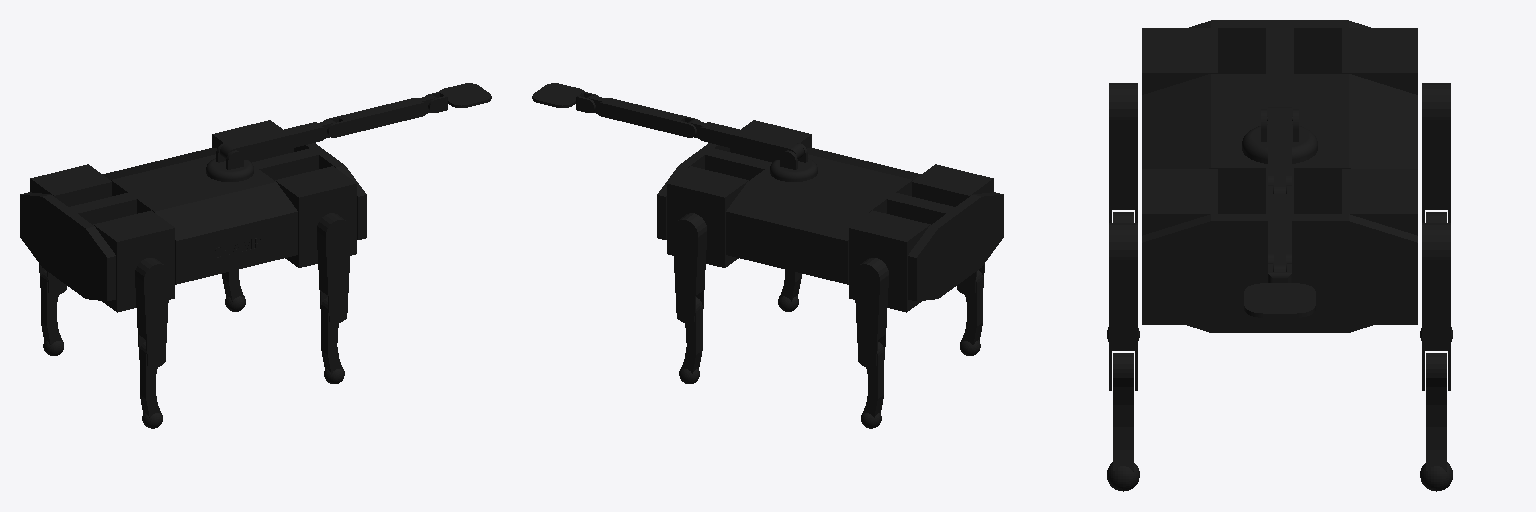
--- Render facts (derived) ---
The picture shows the robot from 3 angles, left to right: view 1: azimuth 30°, elevation 25°; view 2: azimuth 150°, elevation 25°; view 3: azimuth 270°, elevation 25°; orthographic projection.
Model champ with 30 links and 29 joints (17 revolute, 12 fixed), rooted at base_link, posed every joint at zero.
Visible links, largest first — view 1: base_link, rf_hip_link, rh_hip_link, rh_upper_leg_link, rf_upper_leg_link, lh_hip_link, upper_arm, lower_arm, rf_lower_leg_link, lh_lower_leg_link, rh_lower_leg_link, base (+3 smaller); view 2: base_link, lf_hip_link, lh_hip_link, lh_upper_leg_link, lf_upper_leg_link, rh_hip_link, upper_arm, lower_arm, lf_lower_leg_link, rh_lower_leg_link, lh_lower_leg_link, base (+3 smaller); view 3: base_link, lf_hip_link, rf_hip_link, lh_hip_link, rh_hip_link, lf_upper_leg_link, rf_upper_leg_link, lh_upper_leg_link, rh_upper_leg_link, lf_lower_leg_link, rf_lower_leg_link, wrist2 (+3 smaller).
Link boxes in pixels (bbox=[...]): base_link: bbox=[20, 143, 366, 300]; rf_hip_link: bbox=[275, 166, 356, 267]; rh_hip_link: bbox=[93, 210, 174, 312]; rh_upper_leg_link: bbox=[135, 258, 169, 367]; rf_upper_leg_link: bbox=[317, 213, 350, 323]; lh_hip_link: bbox=[30, 164, 111, 206]; upper_arm: bbox=[323, 95, 436, 137]; lower_arm: bbox=[220, 120, 335, 159]; rf_lower_leg_link: bbox=[321, 297, 344, 383]; lh_lower_leg_link: bbox=[41, 270, 63, 355]; rh_lower_leg_link: bbox=[140, 342, 162, 428]; base: bbox=[206, 143, 253, 181]; base_link: bbox=[657, 143, 1003, 300]; lf_hip_link: bbox=[667, 166, 748, 267]; lh_hip_link: bbox=[849, 210, 930, 312]; lh_upper_leg_link: bbox=[854, 258, 888, 367]; lf_upper_leg_link: bbox=[673, 213, 706, 323]; rh_hip_link: bbox=[912, 164, 993, 206]; upper_arm: bbox=[587, 95, 700, 137]; lower_arm: bbox=[688, 120, 803, 159]; lf_lower_leg_link: bbox=[679, 297, 702, 383]; rh_lower_leg_link: bbox=[960, 270, 982, 355]; lh_lower_leg_link: bbox=[861, 342, 883, 428]; base: bbox=[770, 143, 817, 181]; base_link: bbox=[1142, 20, 1417, 332]; lf_hip_link: bbox=[1342, 169, 1417, 324]; rf_hip_link: bbox=[1142, 169, 1217, 324]; lh_hip_link: bbox=[1342, 28, 1417, 94]; rh_hip_link: bbox=[1142, 28, 1217, 94]; lf_upper_leg_link: bbox=[1422, 223, 1450, 390]; rf_upper_leg_link: bbox=[1109, 223, 1137, 390]; lh_upper_leg_link: bbox=[1422, 83, 1450, 222]; rh_upper_leg_link: bbox=[1109, 83, 1137, 222]; lf_lower_leg_link: bbox=[1420, 353, 1452, 491]; rf_lower_leg_link: bbox=[1107, 353, 1139, 491]; wrist2: bbox=[1244, 283, 1315, 317].
Bounding box of the posed robot: 0.8105 × 0.365 × 0.3945 m (x, y, z).
Meshes: 9 distinct files referenced, 18 mesh visuals loaded (9 binary STL).

robot.urdf — champ:
<?xml version="1.0" encoding="utf-8"?>
<!-- =================================================================================== -->
<!-- |    This document was autogenerated by xacro from champ.urdf.xacro               | -->
<!-- |    EDITING THIS FILE BY HAND IS NOT RECOMMENDED                                 | -->
<!-- =================================================================================== -->
<robot name="champ">
  <material name="black">
    <color rgba="0.15 0.15 0.15 1.0"/>
  </material>

  <link name="upper_arm_debug_link"/>
  <joint name="upper_arm_debug_joint" type="fixed">
    <parent link="base"/>
    <child link="upper_arm_debug_link"/>
    <origin rpy="0 0 0" xyz="0 0 0.035"/>
  </joint>

  <link name="base_link">
    <collision>
      <origin rpy="0 0 0" xyz="0 0 0"/>
      <geometry>
        <mesh filename="package://champ_description/meshes/base.stl" scale="0.001 0.001 0.001"/>
      </geometry>
    </collision>
    <visual>
      <origin rpy="0 0 0" xyz="0 0 0"/>
      <geometry>
        <mesh filename="package://champ_description/meshes/base.stl" scale="0.001 0.001 0.001"/>
      </geometry>
      <material name="black"/>
    </visual>
  </link>
  <link name="base_inertia">
    <inertial>
      <origin xyz="0 0 0"/>
      <mass value="2.0"/>
      <inertia ixx="0.0168333333333" ixy="0.0" ixz="0.0" iyy="0.0444833333333" iyz="0.0" izz="0.0556833333333"/>
    </inertial>
  </link>
  <joint name="base_link_to_base_inertia" type="fixed">
    <parent link="base_link"/>
    <child link="base_inertia"/>
    <origin rpy="0 0 0" xyz="0 0 0"/>
  </joint>
  <gazebo reference="base_link">
    <material>Gazebo/FlatBlack</material>
  </gazebo>
  <!-- <xacro:hokuyo_utm30lx 
        name="hokuyo" 
        parent="base_link" 
        ros_topic="scan" 
        update_rate="30" 
        ray_count="1040" 
        min_angle="130" 
        max_angle="-130" >
        <origin xyz="0.0 0.0 ${base_z_length / 2 + 0.04}" rpy="0 0 0"/>
    </xacro:hokuyo_utm30lx>
    
    <gazebo reference="hokuyo_frame">
		<material>Gazebo/FlatBlack</material>
	</gazebo>

    <xacro:asus_camera_model 
        parent="base_link" 
        name="camera">
        <origin xyz="${base_x_length / 2} 0.0 ${base_z_length / 2 + 0.01}" rpy="0 0 0"/>
    </xacro:asus_camera_model> -->
  <gazebo>
    <plugin filename="libhector_gazebo_ros_imu.so" name="imu_controller">
      <robotNamespace>/</robotNamespace>
      <updateRate>50.0</updateRate>
      <bodyName>imu_link</bodyName>
      <topicName>champ/imu/data</topicName>
      <accelDrift>0.005 0.005 0.005</accelDrift>
      <accelGaussianNoise>0.005 0.005 0.005</accelGaussianNoise>
      <rateDrift>0.005 0.005 0.005 </rateDrift>
      <rateGaussianNoise>0.005 0.005 0.005 </rateGaussianNoise>
      <headingDrift>0.005</headingDrift>
      <headingGaussianNoise>0.005</headingGaussianNoise>
    </plugin>
  </gazebo>
  <link name="imu_link">
    <inertial>
      <mass value="0.001"/>
      <origin rpy="0 0 0" xyz="0 0 0"/>
      <inertia ixx="1e-09" ixy="0.0" ixz="0.0" iyy="1e-09" iyz="0.0" izz="1e-09"/>
    </inertial>
  </link>
  <joint name="imu_joint" type="fixed">
    <parent link="base_link"/>
    <child link="imu_link"/>
  </joint>
  <!-- 
    <material name="black">
      <color rgba="0.15 0.15 0.15 1.0"/>
    </material> -->
  <joint name="robot_to_arm_joint" type="fixed">
    <parent link="base_link"/>
    <child link="base_mount"/>
    <origin rpy="0 0 0" xyz="0.07 0.0 0.065"/>
  </joint>
  <link name="base_mount"/>
  <link name="base">
    <collision>
      <origin rpy="0 0 0" xyz="0 0 0"/>
      <geometry>
        <mesh filename="package://champ_description/meshes/arm/base.stl" scale="0.001 0.001 0.001"/>
      </geometry>
    </collision>
    <visual>
      <origin rpy="0 0 0" xyz="0 0 0"/>
      <geometry>
        <mesh filename="package://champ_description/meshes/arm/base.stl" scale="0.001 0.001 0.001"/>
      </geometry>
      <material name="black"/>
    </visual>
  </link>
  <joint name="base_joint" type="revolute">
    <axis xyz="0 0 1"/>
    <limit effort="25" lower="-1.57079632679" upper="1.57079632679" velocity="1.5"/>
    <parent link="base_mount"/>
    <child link="base"/>
    <origin rpy="0 0 0" xyz="0 0 0"/>
  </joint>
  <link name="lower_arm">
    <collision>
      <origin rpy="0 0 0" xyz="-0.0125 0 0"/>
      <geometry>
        <mesh filename="package://champ_description/meshes/arm/lower_arm.stl" scale="0.001 0.001 0.001"/>
      </geometry>
    </collision>
    <visual>
      <origin rpy="0 0 0" xyz="-0.0125 0 0"/>
      <geometry>
        <mesh filename="package://champ_description/meshes/arm/lower_arm.stl" scale="0.001 0.001 0.001"/>
      </geometry>
      <material name="black"/>
    </visual>
  </link>
  <joint name="lower_arm_joint" type="revolute">
    <axis xyz="0 1 0"/>
    <limit effort="25" lower="-1.57079632679" upper="1.57079632679" velocity="1.5"/>
    <parent link="base"/>
    <child link="lower_arm"/>
    <origin rpy="0 0 0" xyz="0 0 0.035"/>
  </joint>
  <link name="upper_arm">
    <collision>
      <origin rpy="0 0 0" xyz="-0.0125 0 0"/>
      <geometry>
        <mesh filename="package://champ_description/meshes/arm/upper_arm.stl" scale="0.001 0.001 0.001"/>
      </geometry>
    </collision>
    <visual>
      <origin rpy="0 0 0" xyz="-0.0125 0 0"/>
      <geometry>
        <mesh filename="package://champ_description/meshes/arm/upper_arm.stl" scale="0.001 0.001 0.001"/>
      </geometry>
      <material name="black"/>
    </visual>
  </link>
  <joint name="upper_arm_joint" type="revolute">
    <axis xyz="0 1 0"/>
    <limit effort="25" lower="-1.57079632679" upper="1.57079632679" velocity="1.5"/>
    <parent link="lower_arm"/>
    <child link="upper_arm"/>
    <origin rpy="0 0 0" xyz="0.195 0 0"/>
  </joint>
  <link name="wrist1">
    <collision>
      <origin rpy="0 0 0" xyz="-0.0125 0 0"/>
      <geometry>
        <mesh filename="package://champ_description/meshes/arm/wrist1.stl" scale="0.001 0.001 0.001"/>
      </geometry>
    </collision>
    <visual>
      <origin rpy="0 0 0" xyz="-0.0125 0 0"/>
      <geometry>
        <mesh filename="package://champ_description/meshes/arm/wrist1.stl" scale="0.001 0.001 0.001"/>
      </geometry>
      <material name="black"/>
    </visual>
  </link>
  <joint name="wrist1_joint" type="revolute">
    <axis xyz="0 1 0"/>
    <limit effort="25" lower="-1.57079632679" upper="1.57079632679" velocity="1.5"/>
    <parent link="upper_arm"/>
    <child link="wrist1"/>
    <origin rpy="0 0 0" xyz="0.195 0 0"/>
  </joint>
  <link name="wrist2">
    <collision>
      <origin rpy="0 0 0" xyz="-0.0455 0 0"/>
      <geometry>
        <mesh filename="package://champ_description/meshes/arm/wrist2.stl" scale="0.001 0.001 0.001"/>
      </geometry>
    </collision>
    <visual>
      <origin rpy="0 0 0" xyz="-0.0455 0 0"/>
      <geometry>
        <mesh filename="package://champ_description/meshes/arm/wrist2.stl" scale="0.001 0.001 0.001"/>
      </geometry>
      <material name="black"/>
    </visual>
  </link>
  <joint name="wrist2_joint" type="revolute">
    <axis xyz="1 0 0"/>
    <limit effort="25" lower="-1.57079632679" upper="1.57079632679" velocity="1.5"/>
    <parent link="wrist1"/>
    <child link="wrist2"/>
    <origin rpy="0 0 0" xyz="0.065 0 0"/>
  </joint>
  <link name="lf_hip_debug_link"/>
  <link name="lf_hip_link">
    <inertial>
      <mass value="0.25"/>
      <inertia ixx="0.000485416666667" ixy="0.0" ixz="0.0" iyy="0.000613416666667" iyz="0.0" izz="0.000394666666667"/>
    </inertial>
    <collision>
      <origin rpy="0 0 0" xyz="0 0 0"/>
      <geometry>
        <mesh filename="package://champ_description/meshes/hip.stl" scale="0.001 0.001 0.001"/>
      </geometry>
    </collision>
    <visual>
      <origin rpy="0 0 0" xyz="0 0 0"/>
      <geometry>
        <mesh filename="package://champ_description/meshes/hip.stl" scale="0.001 0.001 0.001"/>
      </geometry>
      <material name="black"/>
    </visual>
  </link>
  <gazebo reference="lf_hip_link">
    <material>Gazebo/FlatBlack</material>
  </gazebo>
  <link name="lf_upper_leg_link">
    <inertial>
      <origin xyz="0 0 -0.0705"/>
      <mass value="0.125"/>
      <inertia ixx="0.0003873984375" ixy="0.0" ixz="0.0" iyy="0.000404065104167" iyz="0.0" izz="3.54166666667e-05"/>
    </inertial>
    <collision>
      <origin rpy="0 0 0" xyz="0 0 0"/>
      <geometry>
        <mesh filename="package://champ_description/meshes/upper_leg.stl" scale="0.001 0.001 0.001"/>
      </geometry>
    </collision>
    <visual>
      <origin rpy="0 0 0" xyz="0 0 0"/>
      <geometry>
        <mesh filename="package://champ_description/meshes/upper_leg.stl" scale="0.001 0.001 0.001"/>
      </geometry>
      <material name="black"/>
    </visual>
  </link>
  <gazebo reference="lf_upper_leg_link">
    <material>Gazebo/FlatBlack</material>
  </gazebo>
  <link name="lf_lower_leg_link">
    <inertial>
      <origin xyz="0 0 -0.063"/>
      <mass value="0.125"/>
      <inertia ixx="0.000258541666667" ixy="0.0" ixz="0.0" iyy="0.00026934375" iyz="0.0" izz="2.08854166667e-05"/>
    </inertial>
    <collision>
      <origin rpy="0 0 0" xyz="0 0 0"/>
      <geometry>
        <mesh filename="package://champ_description/meshes/lower_leg.stl" scale="0.001 0.001 0.001"/>
      </geometry>
    </collision>
    <visual>
      <origin rpy="0 0 0" xyz="0 0 0"/>
      <geometry>
        <mesh filename="package://champ_description/meshes/lower_leg.stl" scale="0.001 0.001 0.001"/>
      </geometry>
      <material name="black"/>
    </visual>
  </link>
  <gazebo reference="lf_lower_leg_link">
    <kp>1000000.0</kp>
    <kd>1.0</kd>
    <mu1>0.8</mu1>
    <mu2>0.8</mu2>
    <maxVel>0.0</maxVel>
    <minDepth>0.001</minDepth>
    <material>Gazebo/FlatBlack</material>
  </gazebo>
  <link name="lf_foot_link"/>
  <joint name="lf_debug_joint" type="fixed">
    <parent link="base_link"/>
    <child link="lf_hip_debug_link"/>
    <origin rpy="0 0 0" xyz="0.175 0.105 0"/>
  </joint>
  <joint name="lf_hip_joint" type="revolute">
    <axis xyz="1 0 0"/>
    <limit effort="25" lower="-3.14159265359" upper="3.14159265359" velocity="1.5"/>
    <parent link="base_link"/>
    <child link="lf_hip_link"/>
    <origin rpy="0 0 0" xyz="0.175 0.105 0"/>
  </joint>
  <joint name="lf_upper_leg_joint" type="revolute">
    <axis xyz="0 1 0"/>
    <limit effort="25" lower="-3.14159265359" upper="3.14159265359" velocity="1.5"/>
    <parent link="lf_hip_link"/>
    <child link="lf_upper_leg_link"/>
    <origin rpy="0 0 0" xyz="0 0.06 0"/>
  </joint>
  <joint name="lf_lower_leg_joint" type="revolute">
    <axis xyz="0 1 0"/>
    <limit effort="25" lower="-3.14159265359" upper="3.14159265359" velocity="1.5"/>
    <parent link="lf_upper_leg_link"/>
    <child link="lf_lower_leg_link"/>
    <origin rpy="0 0 0" xyz="0 0 -0.141"/>
  </joint>
  <joint name="lf_foot_joint" type="fixed">
    <parent link="lf_lower_leg_link"/>
    <child link="lf_foot_link"/>
    <!-- <origin xyz="0.00325 0 -${lower_leg_to_foot_distance}" rpy="0 0 0" /> -->
    <origin rpy="0 0 0" xyz="0 0 -0.141"/>
  </joint>
  <transmission name="lf_hip_joint_trans">
    <type>transmission_interface/SimpleTransmission</type>
    <joint name="lf_hip_joint">
      <hardwareInterface>hardware_interface/EffortJointInterface</hardwareInterface>
    </joint>
    <actuator name="lf_hip_joint_motor">
      <hardwareInterface>hardware_interface/EffortJointInterface</hardwareInterface>
      <mechanicalReduction>1</mechanicalReduction>
    </actuator>
  </transmission>
  <transmission name="lf_upper_leg_joint_trans">
    <type>transmission_interface/SimpleTransmission</type>
    <joint name="lf_upper_leg_joint">
      <hardwareInterface>hardware_interface/EffortJointInterface</hardwareInterface>
    </joint>
    <actuator name="lf_upper_leg_joint_motor">
      <hardwareInterface>hardware_interface/EffortJointInterface</hardwareInterface>
      <mechanicalReduction>1</mechanicalReduction>
    </actuator>
  </transmission>
  <transmission name="lf_lower_leg_joint_trans">
    <type>transmission_interface/SimpleTransmission</type>
    <joint name="lf_lower_leg_joint">
      <hardwareInterface>hardware_interface/EffortJointInterface</hardwareInterface>
    </joint>
    <actuator name="lf_lower_joint_motor">
      <hardwareInterface>hardware_interface/EffortJointInterface</hardwareInterface>
      <mechanicalReduction>1</mechanicalReduction>
    </actuator>
  </transmission>
  <link name="lh_hip_debug_link"/>
  <link name="lh_hip_link">
    <inertial>
      <mass value="0.25"/>
      <inertia ixx="0.000485416666667" ixy="0.0" ixz="0.0" iyy="0.000613416666667" iyz="0.0" izz="0.000394666666667"/>
    </inertial>
    <collision>
      <origin rpy="0 0 0" xyz="0 0 0"/>
      <geometry>
        <mesh filename="package://champ_description/meshes/hip.stl" scale="0.001 0.001 0.001"/>
      </geometry>
    </collision>
    <visual>
      <origin rpy="0 0 0" xyz="0 0 0"/>
      <geometry>
        <mesh filename="package://champ_description/meshes/hip.stl" scale="0.001 0.001 0.001"/>
      </geometry>
      <material name="black"/>
    </visual>
  </link>
  <gazebo reference="lh_hip_link">
    <material>Gazebo/FlatBlack</material>
  </gazebo>
  <link name="lh_upper_leg_link">
    <inertial>
      <origin xyz="0 0 -0.0705"/>
      <mass value="0.125"/>
      <inertia ixx="0.0003873984375" ixy="0.0" ixz="0.0" iyy="0.000404065104167" iyz="0.0" izz="3.54166666667e-05"/>
    </inertial>
    <collision>
      <origin rpy="0 0 0" xyz="0 0 0"/>
      <geometry>
        <mesh filename="package://champ_description/meshes/upper_leg.stl" scale="0.001 0.001 0.001"/>
      </geometry>
    </collision>
    <visual>
      <origin rpy="0 0 0" xyz="0 0 0"/>
      <geometry>
        <mesh filename="package://champ_description/meshes/upper_leg.stl" scale="0.001 0.001 0.001"/>
      </geometry>
      <material name="black"/>
    </visual>
  </link>
  <gazebo reference="lh_upper_leg_link">
    <material>Gazebo/FlatBlack</material>
  </gazebo>
  <link name="lh_lower_leg_link">
    <inertial>
      <origin xyz="0 0 -0.063"/>
      <mass value="0.125"/>
      <inertia ixx="0.000258541666667" ixy="0.0" ixz="0.0" iyy="0.00026934375" iyz="0.0" izz="2.08854166667e-05"/>
    </inertial>
    <collision>
      <origin rpy="0 0 0" xyz="0 0 0"/>
      <geometry>
        <mesh filename="package://champ_description/meshes/lower_leg.stl" scale="0.001 0.001 0.001"/>
      </geometry>
    </collision>
    <visual>
      <origin rpy="0 0 0" xyz="0 0 0"/>
      <geometry>
        <mesh filename="package://champ_description/meshes/lower_leg.stl" scale="0.001 0.001 0.001"/>
      </geometry>
      <material name="black"/>
    </visual>
  </link>
  <gazebo reference="lh_lower_leg_link">
    <kp>1000000.0</kp>
    <kd>1.0</kd>
    <mu1>0.8</mu1>
    <mu2>0.8</mu2>
    <maxVel>0.0</maxVel>
    <minDepth>0.001</minDepth>
    <material>Gazebo/FlatBlack</material>
  </gazebo>
  <link name="lh_foot_link"/>
  <joint name="lh_debug_joint" type="fixed">
    <parent link="base_link"/>
    <child link="lh_hip_debug_link"/>
    <origin rpy="0 0 0" xyz="-0.175 0.105 0"/>
  </joint>
  <joint name="lh_hip_joint" type="revolute">
    <axis xyz="1 0 0"/>
    <limit effort="25" lower="-3.14159265359" upper="3.14159265359" velocity="1.5"/>
    <parent link="base_link"/>
    <child link="lh_hip_link"/>
    <origin rpy="0 0 0" xyz="-0.175 0.105 0"/>
  </joint>
  <joint name="lh_upper_leg_joint" type="revolute">
    <axis xyz="0 1 0"/>
    <limit effort="25" lower="-3.14159265359" upper="3.14159265359" velocity="1.5"/>
    <parent link="lh_hip_link"/>
    <child link="lh_upper_leg_link"/>
    <origin rpy="0 0 0" xyz="0 0.06 0"/>
  </joint>
  <joint name="lh_lower_leg_joint" type="revolute">
    <axis xyz="0 1 0"/>
    <limit effort="25" lower="-3.14159265359" upper="3.14159265359" velocity="1.5"/>
    <parent link="lh_upper_leg_link"/>
    <child link="lh_lower_leg_link"/>
    <origin rpy="0 0 0" xyz="0 0 -0.141"/>
  </joint>
  <joint name="lh_foot_joint" type="fixed">
    <parent link="lh_lower_leg_link"/>
    <child link="lh_foot_link"/>
    <!-- <origin xyz="0.00325 0 -${lower_leg_to_foot_distance}" rpy="0 0 0" /> -->
    <origin rpy="0 0 0" xyz="0 0 -0.141"/>
  </joint>
  <transmission name="lh_hip_joint_trans">
    <type>transmission_interface/SimpleTransmission</type>
    <joint name="lh_hip_joint">
      <hardwareInterface>hardware_interface/EffortJointInterface</hardwareInterface>
    </joint>
    <actuator name="lh_hip_joint_motor">
      <hardwareInterface>hardware_interface/EffortJointInterface</hardwareInterface>
      <mechanicalReduction>1</mechanicalReduction>
    </actuator>
  </transmission>
  <transmission name="lh_upper_leg_joint_trans">
    <type>transmission_interface/SimpleTransmission</type>
    <joint name="lh_upper_leg_joint">
      <hardwareInterface>hardware_interface/EffortJointInterface</hardwareInterface>
    </joint>
    <actuator name="lh_upper_leg_joint_motor">
      <hardwareInterface>hardware_interface/EffortJointInterface</hardwareInterface>
      <mechanicalReduction>1</mechanicalReduction>
    </actuator>
  </transmission>
  <transmission name="lh_lower_leg_joint_trans">
    <type>transmission_interface/SimpleTransmission</type>
    <joint name="lh_lower_leg_joint">
      <hardwareInterface>hardware_interface/EffortJointInterface</hardwareInterface>
    </joint>
    <actuator name="lh_lower_joint_motor">
      <hardwareInterface>hardware_interface/EffortJointInterface</hardwareInterface>
      <mechanicalReduction>1</mechanicalReduction>
    </actuator>
  </transmission>
  <link name="rf_hip_debug_link"/>
  <link name="rf_hip_link">
    <inertial>
      <mass value="0.25"/>
      <inertia ixx="0.000485416666667" ixy="0.0" ixz="0.0" iyy="0.000613416666667" iyz="0.0" izz="0.000394666666667"/>
    </inertial>
    <collision>
      <origin rpy="0 0 0" xyz="0 0 0"/>
      <geometry>
        <mesh filename="package://champ_description/meshes/hip.stl" scale="0.001 0.001 0.001"/>
      </geometry>
    </collision>
    <visual>
      <origin rpy="0 0 0" xyz="0 0 0"/>
      <geometry>
        <mesh filename="package://champ_description/meshes/hip.stl" scale="0.001 0.001 0.001"/>
      </geometry>
      <material name="black"/>
    </visual>
  </link>
  <gazebo reference="rf_hip_link">
    <material>Gazebo/FlatBlack</material>
  </gazebo>
  <link name="rf_upper_leg_link">
    <inertial>
      <origin xyz="0 0 -0.0705"/>
      <mass value="0.125"/>
      <inertia ixx="0.0003873984375" ixy="0.0" ixz="0.0" iyy="0.000404065104167" iyz="0.0" izz="3.54166666667e-05"/>
    </inertial>
    <collision>
      <origin rpy="0 0 0" xyz="0 0 0"/>
      <geometry>
        <mesh filename="package://champ_description/meshes/upper_leg.stl" scale="0.001 0.001 0.001"/>
      </geometry>
    </collision>
    <visual>
      <origin rpy="0 0 0" xyz="0 0 0"/>
      <geometry>
        <mesh filename="package://champ_description/meshes/upper_leg.stl" scale="0.001 0.001 0.001"/>
      </geometry>
      <material name="black"/>
    </visual>
  </link>
  <gazebo reference="rf_upper_leg_link">
    <material>Gazebo/FlatBlack</material>
  </gazebo>
  <link name="rf_lower_leg_link">
    <inertial>
      <origin xyz="0 0 -0.063"/>
      <mass value="0.125"/>
      <inertia ixx="0.000258541666667" ixy="0.0" ixz="0.0" iyy="0.00026934375" iyz="0.0" izz="2.08854166667e-05"/>
    </inertial>
    <collision>
      <origin rpy="0 0 0" xyz="0 0 0"/>
      <geometry>
        <mesh filename="package://champ_description/meshes/lower_leg.stl" scale="0.001 0.001 0.001"/>
      </geometry>
    </collision>
    <visual>
      <origin rpy="0 0 0" xyz="0 0 0"/>
      <geometry>
        <mesh filename="package://champ_description/meshes/lower_leg.stl" scale="0.001 0.001 0.001"/>
      </geometry>
      <material name="black"/>
    </visual>
  </link>
  <gazebo reference="rf_lower_leg_link">
    <kp>1000000.0</kp>
    <kd>1.0</kd>
    <mu1>0.8</mu1>
    <mu2>0.8</mu2>
    <maxVel>0.0</maxVel>
    <minDepth>0.001</minDepth>
    <material>Gazebo/FlatBlack</material>
  </gazebo>
  <link name="rf_foot_link"/>
  <joint name="rf_debug_joint" type="fixed">
    <parent link="base_link"/>
    <child link="rf_hip_debug_link"/>
    <origin rpy="0 0 0" xyz="0.175 -0.105 0"/>
  </joint>
  <joint name="rf_hip_joint" type="revolute">
    <axis xyz="1 0 0"/>
    <limit effort="25" lower="-3.14159265359" upper="3.14159265359" velocity="1.5"/>
    <parent link="base_link"/>
    <child link="rf_hip_link"/>
    <origin rpy="0 0 0" xyz="0.175 -0.105 0"/>
  </joint>
  <joint name="rf_upper_leg_joint" type="revolute">
    <axis xyz="0 1 0"/>
    <limit effort="25" lower="-3.14159265359" upper="3.14159265359" velocity="1.5"/>
    <parent link="rf_hip_link"/>
    <child link="rf_upper_leg_link"/>
    <origin rpy="0 0 0" xyz="0 -0.06 0"/>
  </joint>
  <joint name="rf_lower_leg_joint" type="revolute">
    <axis xyz="0 1 0"/>
    <limit effort="25" lower="-3.14159265359" upper="3.14159265359" velocity="1.5"/>
    <parent link="rf_upper_leg_link"/>
    <child link="rf_lower_leg_link"/>
    <origin rpy="0 0 0" xyz="0 0 -0.141"/>
  </joint>
  <joint name="rf_foot_joint" type="fixed">
    <parent link="rf_lower_leg_link"/>
    <child link="rf_foot_link"/>
    <!-- <origin xyz="0.00325 0 -${lower_leg_to_foot_distance}" rpy="0 0 0" /> -->
    <origin rpy="0 0 0" xyz="0 0 -0.141"/>
  </joint>
  <transmission name="rf_hip_joint_trans">
    <type>transmission_interface/SimpleTransmission</type>
    <joint name="rf_hip_joint">
      <hardwareInterface>hardware_interface/EffortJointInterface</hardwareInterface>
    </joint>
    <actuator name="rf_hip_joint_motor">
      <hardwareInterface>hardware_interface/EffortJointInterface</hardwareInterface>
      <mechanicalReduction>1</mechanicalReduction>
    </actuator>
  </transmission>
  <transmission name="rf_upper_leg_joint_trans">
    <type>transmission_interface/SimpleTransmission</type>
    <joint name="rf_upper_leg_joint">
      <hardwareInterface>hardware_interface/EffortJointInterface</hardwareInterface>
    </joint>
    <actuator name="rf_upper_leg_joint_motor">
      <hardwareInterface>hardware_interface/EffortJointInterface</hardwareInterface>
      <mechanicalReduction>1</mechanicalReduction>
    </actuator>
  </transmission>
  <transmission name="rf_lower_leg_joint_trans">
    <type>transmission_interface/SimpleTransmission</type>
    <joint name="rf_lower_leg_joint">
      <hardwareInterface>hardware_interface/EffortJointInterface</hardwareInterface>
    </joint>
    <actuator name="rf_lower_joint_motor">
      <hardwareInterface>hardware_interface/EffortJointInterface</hardwareInterface>
      <mechanicalReduction>1</mechanicalReduction>
    </actuator>
  </transmission>
  <link name="rh_hip_debug_link"/>
  <link name="rh_hip_link">
    <inertial>
      <mass value="0.25"/>
      <inertia ixx="0.000485416666667" ixy="0.0" ixz="0.0" iyy="0.000613416666667" iyz="0.0" izz="0.000394666666667"/>
    </inertial>
    <collision>
      <origin rpy="0 0 0" xyz="0 0 0"/>
      <geometry>
        <mesh filename="package://champ_description/meshes/hip.stl" scale="0.001 0.001 0.001"/>
      </geometry>
    </collision>
    <visual>
      <origin rpy="0 0 0" xyz="0 0 0"/>
      <geometry>
        <mesh filename="package://champ_description/meshes/hip.stl" scale="0.001 0.001 0.001"/>
      </geometry>
      <material name="black"/>
    </visual>
  </link>
  <gazebo reference="rh_hip_link">
    <material>Gazebo/FlatBlack</material>
  </gazebo>
  <link name="rh_upper_leg_link">
    <inertial>
      <origin xyz="0 0 -0.0705"/>
      <mass value="0.125"/>
      <inertia ixx="0.0003873984375" ixy="0.0" ixz="0.0" iyy="0.000404065104167" iyz="0.0" izz="3.54166666667e-05"/>
    </inertial>
    <collision>
      <origin rpy="0 0 0" xyz="0 0 0"/>
      <geometry>
        <mesh filename="package://champ_description/meshes/upper_leg.stl" scale="0.001 0.001 0.001"/>
      </geometry>
    </collision>
    <visual>
      <origin rpy="0 0 0" xyz="0 0 0"/>
      <geometry>
        <mesh filename="package://champ_description/meshes/upper_leg.stl" scale="0.001 0.001 0.001"/>
      </geometry>
      <material name="black"/>
    </visual>
  </link>
  <gazebo reference="rh_upper_leg_link">
    <material>Gazebo/FlatBlack</material>
  </gazebo>
  <link name="rh_lower_leg_link">
    <inertial>
      <origin xyz="0 0 -0.063"/>
      <mass value="0.125"/>
      <inertia ixx="0.000258541666667" ixy="0.0" ixz="0.0" iyy="0.00026934375" iyz="0.0" izz="2.08854166667e-05"/>
    </inertial>
    <collision>
      <origin rpy="0 0 0" xyz="0 0 0"/>
      <geometry>
        <mesh filename="package://champ_description/meshes/lower_leg.stl" scale="0.001 0.001 0.001"/>
      </geometry>
    </collision>
    <visual>
      <origin rpy="0 0 0" xyz="0 0 0"/>
      <geometry>
        <mesh filename="package://champ_description/meshes/lower_leg.stl" scale="0.001 0.001 0.001"/>
      </geometry>
      <material name="black"/>
    </visual>
  </link>
  <gazebo reference="rh_lower_leg_link">
    <kp>1000000.0</kp>
    <kd>1.0</kd>
    <mu1>0.8</mu1>
    <mu2>0.8</mu2>
    <maxVel>0.0</maxVel>
    <minDepth>0.001</minDepth>
    <material>Gazebo/FlatBlack</material>
  </gazebo>
  <link name="rh_foot_link"/>
  <joint name="rh_debug_joint" type="fixed">
    <parent link="base_link"/>
    <child link="rh_hip_debug_link"/>
    <origin rpy="0 0 0" xyz="-0.175 -0.105 0"/>
  </joint>
  <joint name="rh_hip_joint" type="revolute">
    <axis xyz="1 0 0"/>
    <limit effort="25" lower="-3.14159265359" upper="3.14159265359" velocity="1.5"/>
    <parent link="base_link"/>
    <child link="rh_hip_link"/>
    <origin rpy="0 0 0" xyz="-0.175 -0.105 0"/>
  </joint>
  <joint name="rh_upper_leg_joint" type="revolute">
    <axis xyz="0 1 0"/>
    <limit effort="25" lower="-3.14159265359" upper="3.14159265359" velocity="1.5"/>
    <parent link="rh_hip_link"/>
    <child link="rh_upper_leg_link"/>
    <origin rpy="0 0 0" xyz="0 -0.06 0"/>
  </joint>
  <joint name="rh_lower_leg_joint" type="revolute">
    <axis xyz="0 1 0"/>
    <limit effort="25" lower="-3.14159265359" upper="3.14159265359" velocity="1.5"/>
    <parent link="rh_upper_leg_link"/>
    <child link="rh_lower_leg_link"/>
    <origin rpy="0 0 0" xyz="0 0 -0.141"/>
  </joint>
  <joint name="rh_foot_joint" type="fixed">
    <parent link="rh_lower_leg_link"/>
    <child link="rh_foot_link"/>
    <!-- <origin xyz="0.00325 0 -${lower_leg_to_foot_distance}" rpy="0 0 0" /> -->
    <origin rpy="0 0 0" xyz="0 0 -0.141"/>
  </joint>
  <transmission name="rh_hip_joint_trans">
    <type>transmission_interface/SimpleTransmission</type>
    <joint name="rh_hip_joint">
      <hardwareInterface>hardware_interface/EffortJointInterface</hardwareInterface>
    </joint>
    <actuator name="rh_hip_joint_motor">
      <hardwareInterface>hardware_interface/EffortJointInterface</hardwareInterface>
      <mechanicalReduction>1</mechanicalReduction>
    </actuator>
  </transmission>
  <transmission name="rh_upper_leg_joint_trans">
    <type>transmission_interface/SimpleTransmission</type>
    <joint name="rh_upper_leg_joint">
      <hardwareInterface>hardware_interface/EffortJointInterface</hardwareInterface>
    </joint>
    <actuator name="rh_upper_leg_joint_motor">
      <hardwareInterface>hardware_interface/EffortJointInterface</hardwareInterface>
      <mechanicalReduction>1</mechanicalReduction>
    </actuator>
  </transmission>
  <transmission name="rh_lower_leg_joint_trans">
    <type>transmission_interface/SimpleTransmission</type>
    <joint name="rh_lower_leg_joint">
      <hardwareInterface>hardware_interface/EffortJointInterface</hardwareInterface>
    </joint>
    <actuator name="rh_lower_joint_motor">
      <hardwareInterface>hardware_interface/EffortJointInterface</hardwareInterface>
      <mechanicalReduction>1</mechanicalReduction>
    </actuator>
  </transmission>
  <gazebo>
    <plugin filename="libgazebo_ros_p3d.so" name="p3d_base_controller">
      <alwaysOn>true</alwaysOn>
      <updateRate>10.0</updateRate>
      <bodyName>base_link</bodyName>
      <topicName>odom/ground_truth</topicName>
      <gaussianNoise>0.01</gaussianNoise>
      <frameName>world</frameName>
      <xyzOffsets>0 0 0</xyzOffsets>
      <rpyOffsets>0 0 0</rpyOffsets>
    </plugin>
  </gazebo>
  <gazebo>
    <plugin filename="libgazebo_ros_control.so" name="gazebo_ros_control">
      <robotNamespace>/champ</robotNamespace>
      <legacyModeNS>true</legacyModeNS>
    </plugin>
  </gazebo>
</robot>
